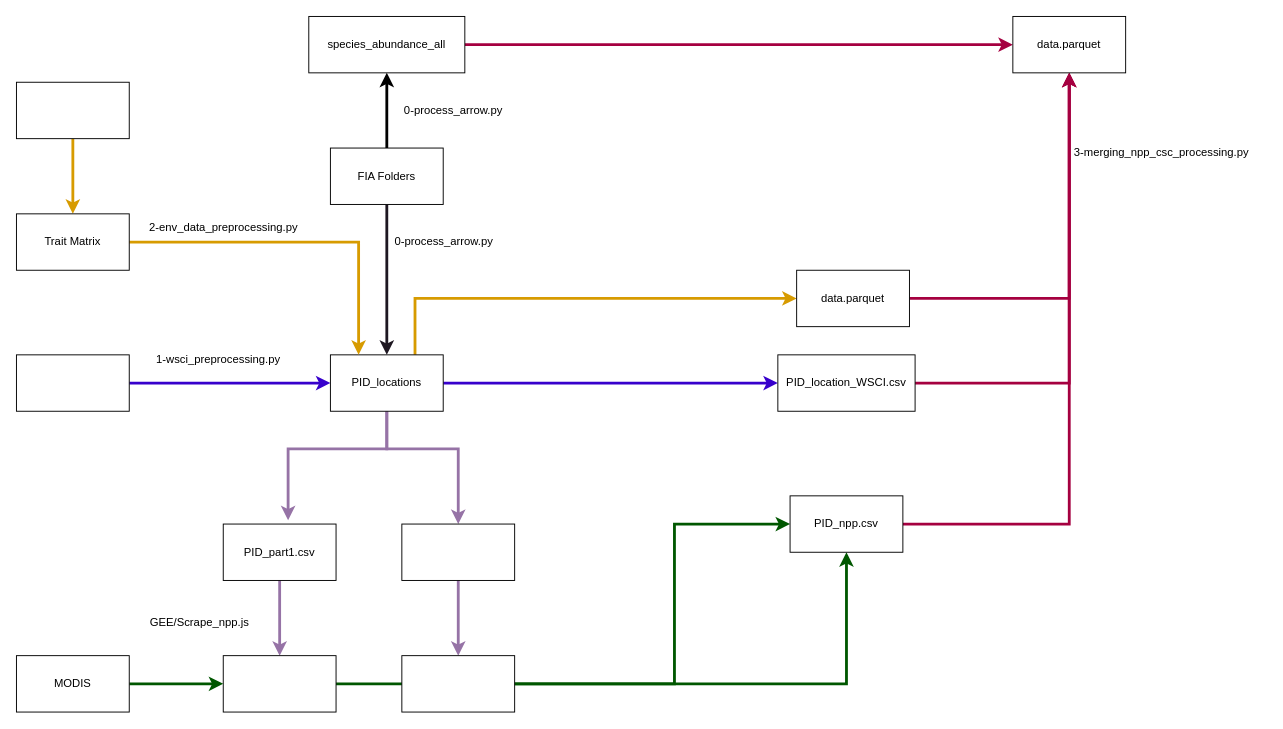
Some shapes in this 1283 by 729 pixel diagram are drawn without their labels. Each missing label, with the centre of its shape:
"Composite" belongs at (x=72, y=110).
"NPP_PID_Part1" belongs at (x=279, y=683).
"NPP_PID_Part2" belongs at (x=458, y=683).
"PID_part2.csv" belongs at (x=458, y=551).
"WSCI data (NASA)" belongs at (x=72, y=382).
